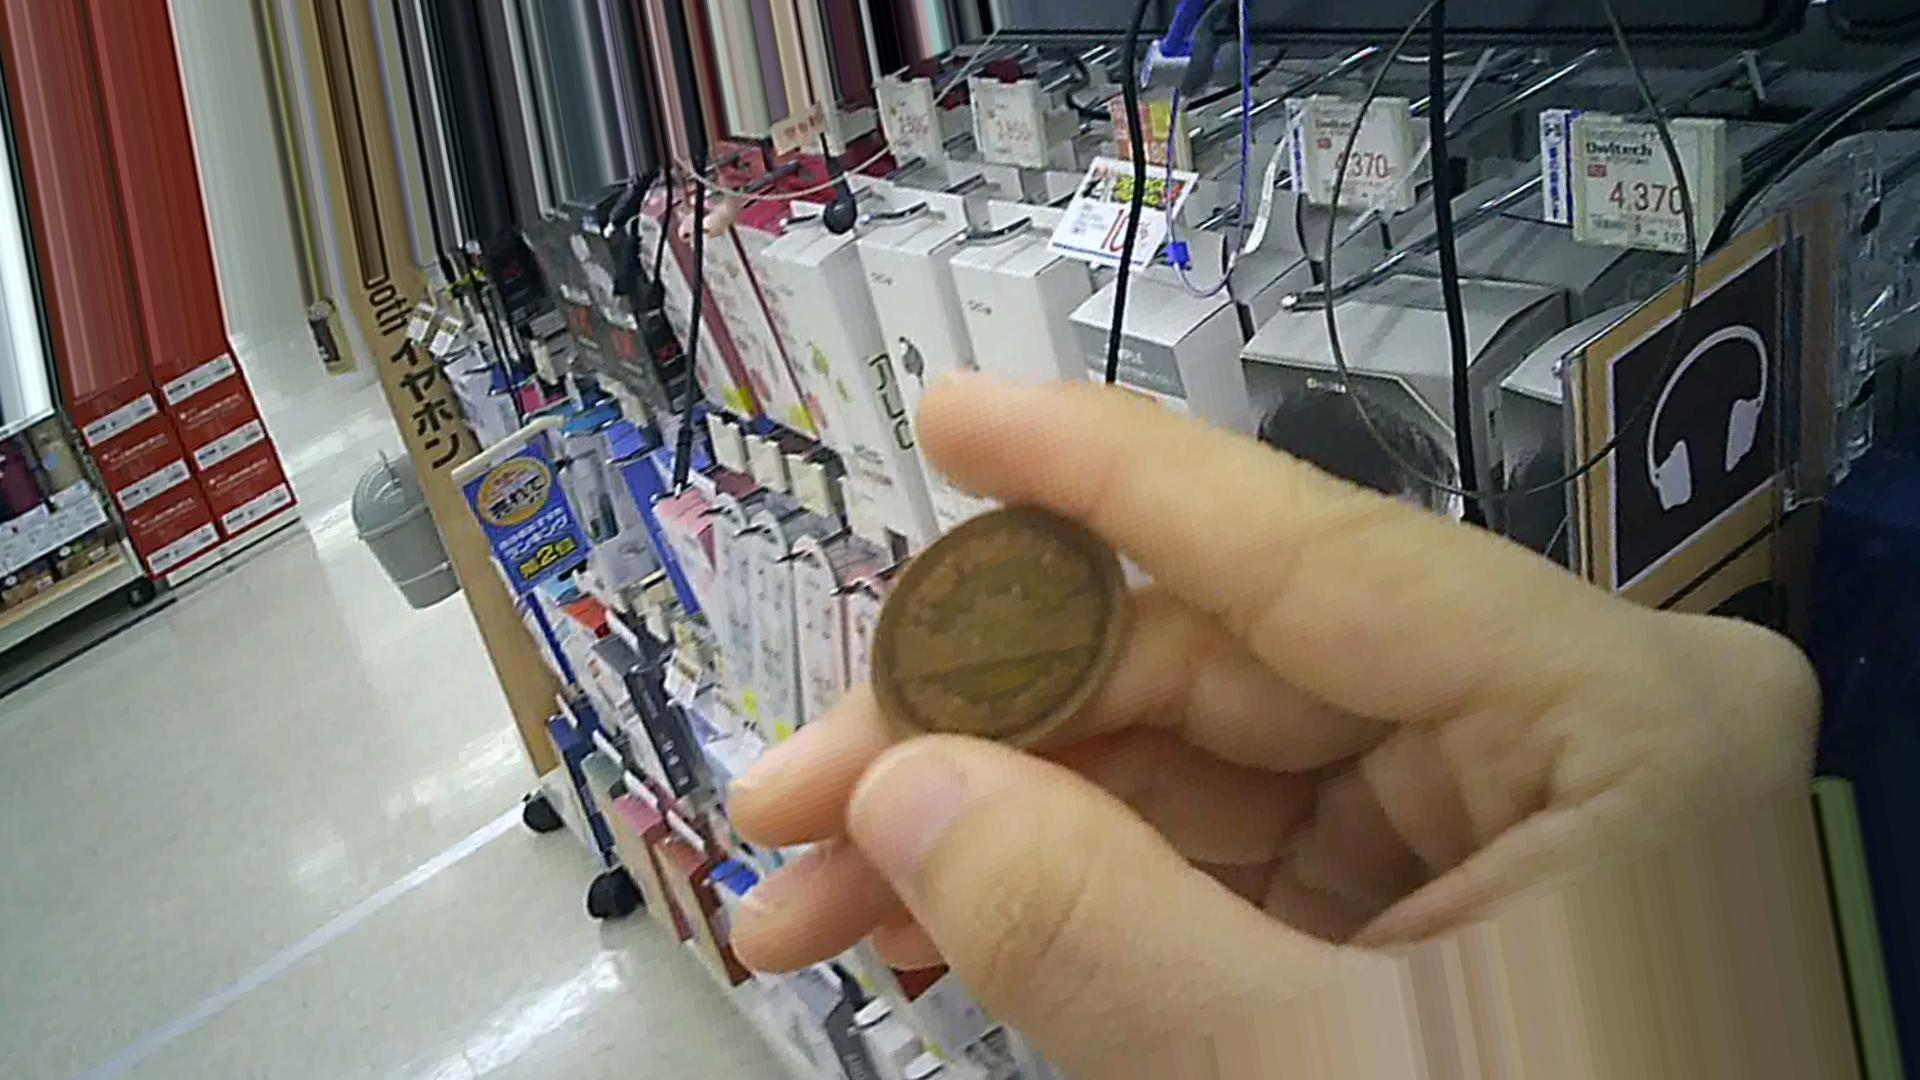10 Yen: (851, 498, 1137, 778)
